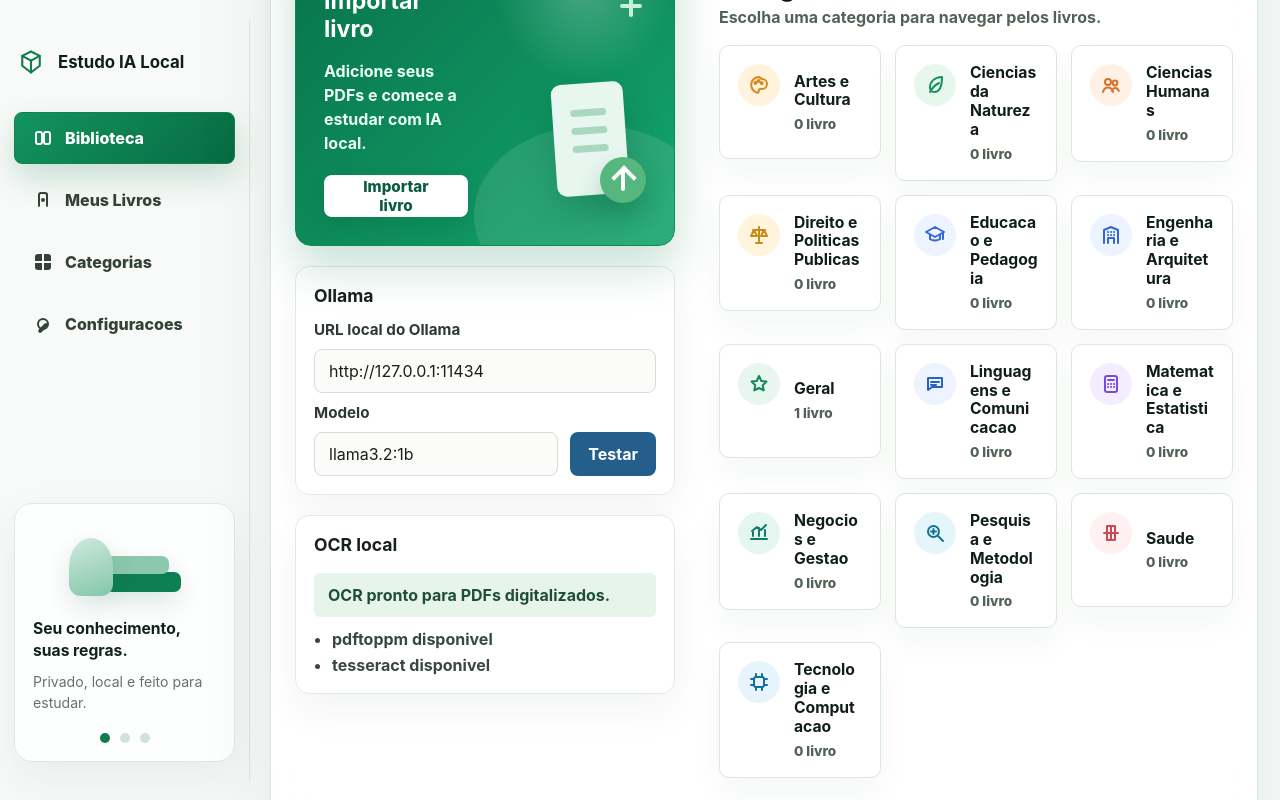
Test: App › loads saved documents on startup
The image size is (1280, 800).
(page scrolled)
Click the button "Geral 1 livro": {"x": 800, "y": 401} [719,344,881,458]
(page scrolled)
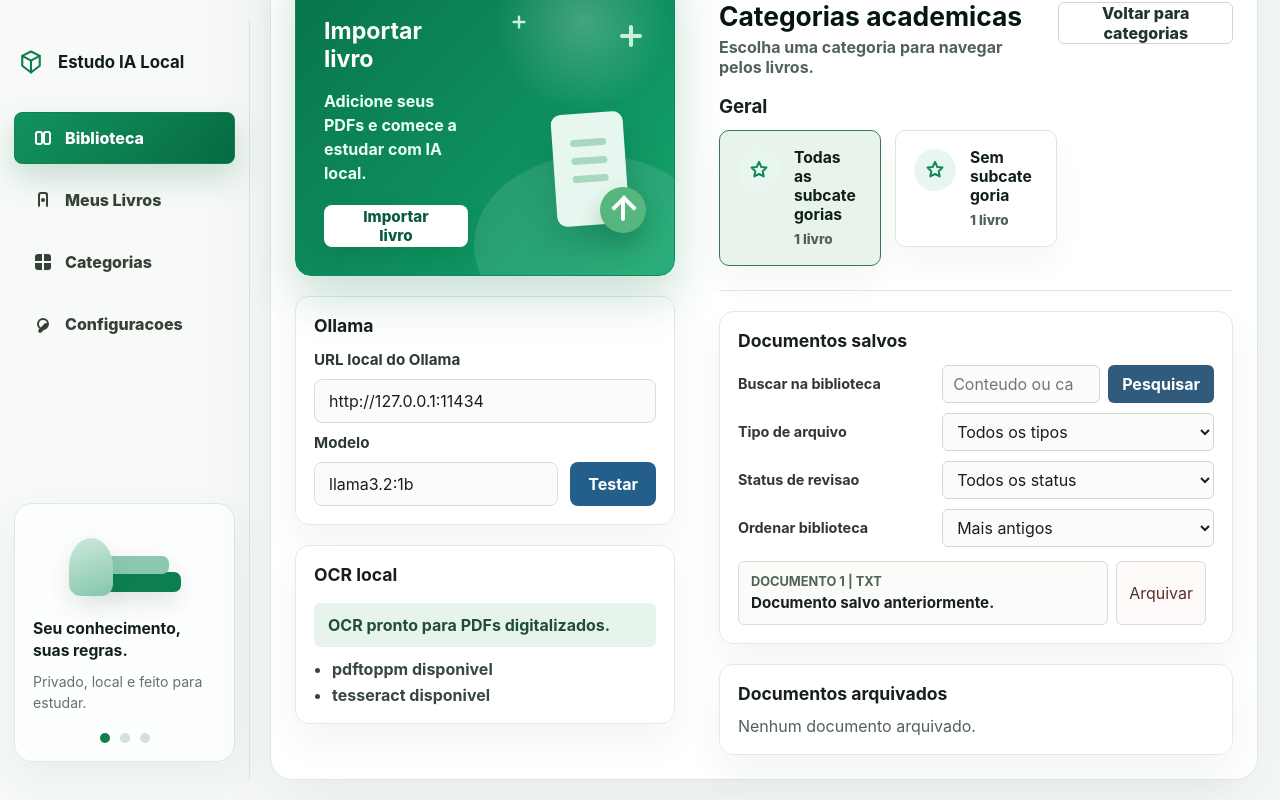
Check: the heading "Documentos salvos" is shown, box [738,330,907,351]
Check: the text "Documento salvo anteriormente." is shown, box [751,593,994,612]
